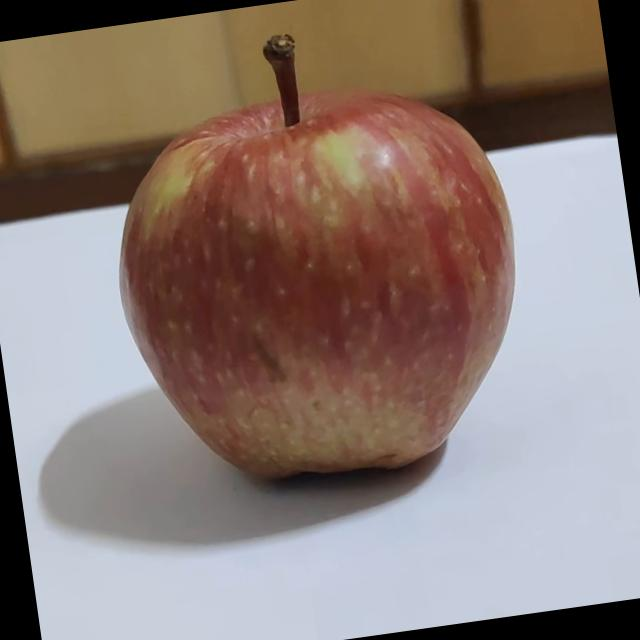apple: (86, 5, 544, 515)
